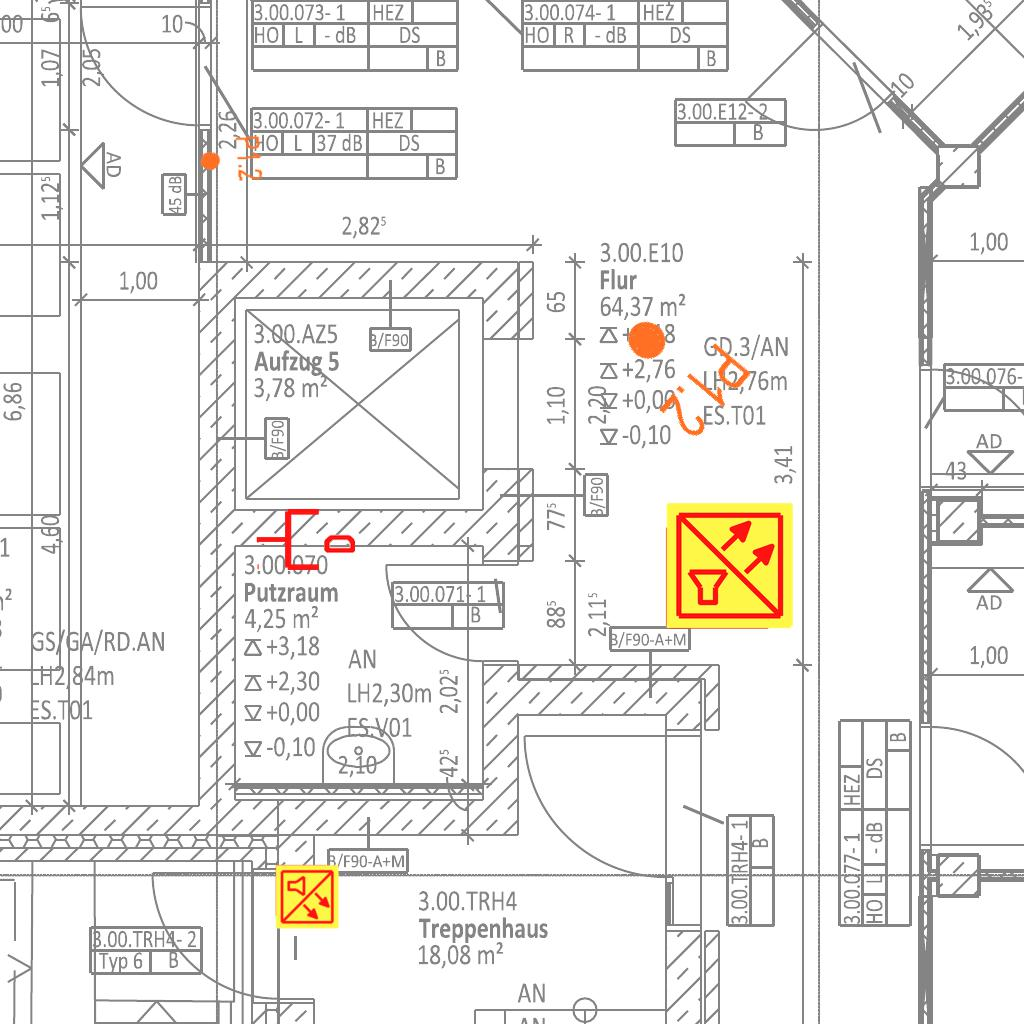Datenanschluss_einfach: (255, 505, 355, 574)
Downlight_LED_Einbauleuchten_Flur: (598, 291, 757, 445), (197, 134, 265, 186)
OKW_Multisensormelder_(Kombination_optischer_Rauch-Kahlenmonoxid_Waerme-Melder): (664, 500, 796, 632), (274, 864, 340, 930)
